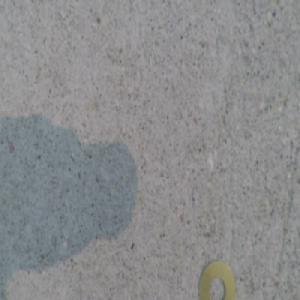Washer: (199, 258, 236, 299)
